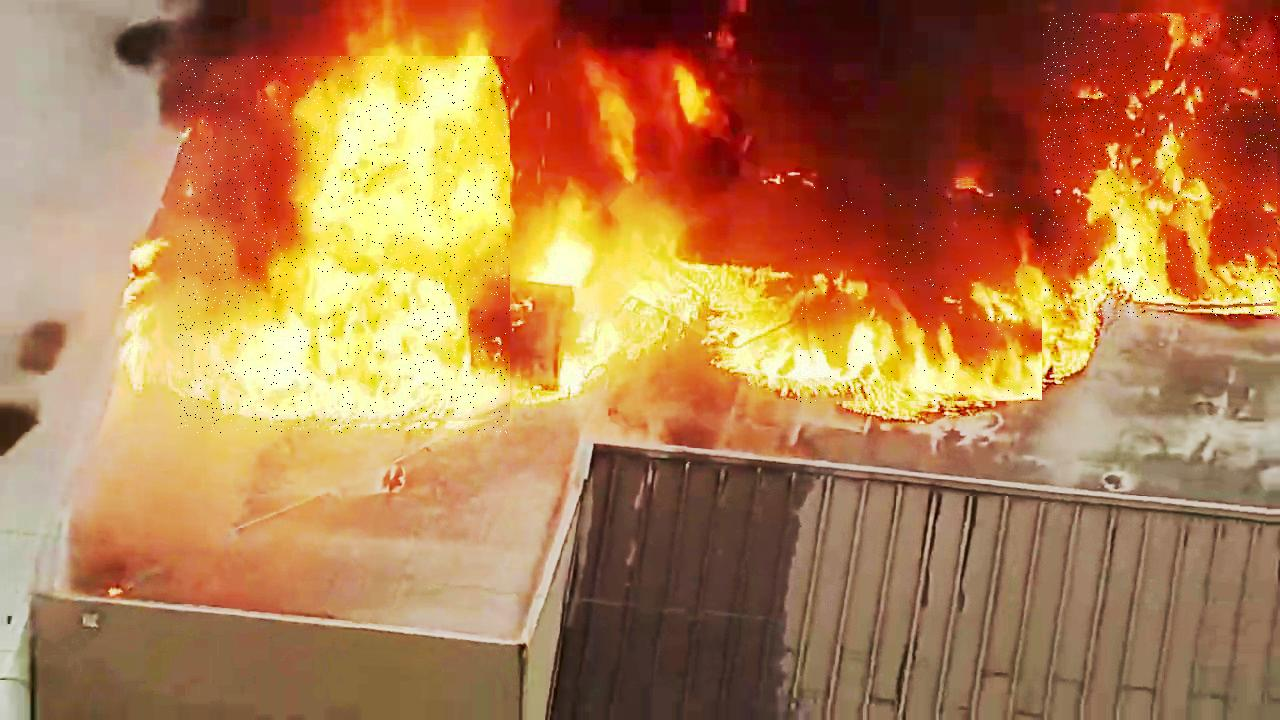fire: (177, 57, 510, 434), (1044, 14, 1280, 319), (795, 179, 1042, 404)
